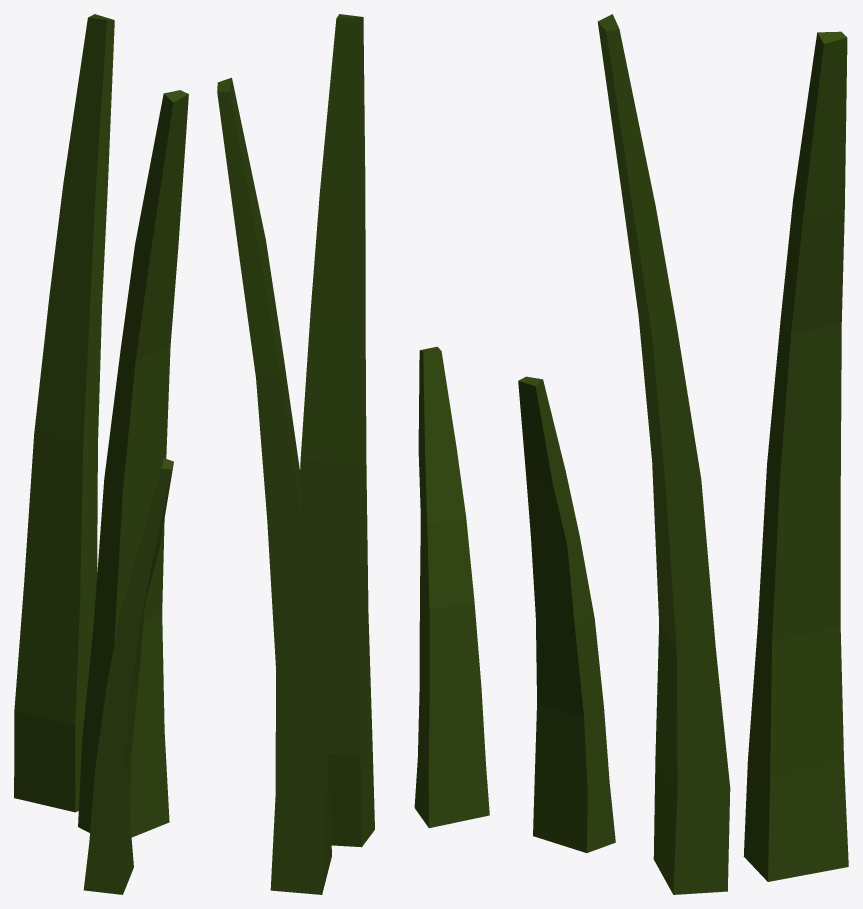
Rendered from grass003_grass1_0_lev1.glb.
The picture shows the model from 3 angles, left to right: view 1: azimuth 30°, elevation 25°; view 2: azimuth 150°, elevation 25°; view 3: azimuth 270°, elevation 25°; orthographic projection. The views are drawn at different scales.
Parts seen in each view (by area): view 1: grass003_grass1_0_lev1; view 2: grass003_grass1_0_lev1; view 3: grass003_grass1_0_lev1.
Part boxes in pixels (left/top/right/bottom): grass003_grass1_0_lev1: left=14, top=14, right=188, bottom=894; grass003_grass1_0_lev1: left=217, top=14, right=489, bottom=894; grass003_grass1_0_lev1: left=518, top=14, right=848, bottom=894.
Bounding box in the file's own units: 0.053 × 0.2633 × 0.0911.
